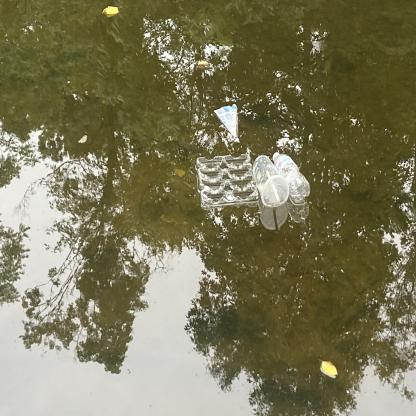trash: (192, 146, 262, 209), (267, 144, 314, 209), (250, 151, 292, 216), (211, 97, 245, 146)
